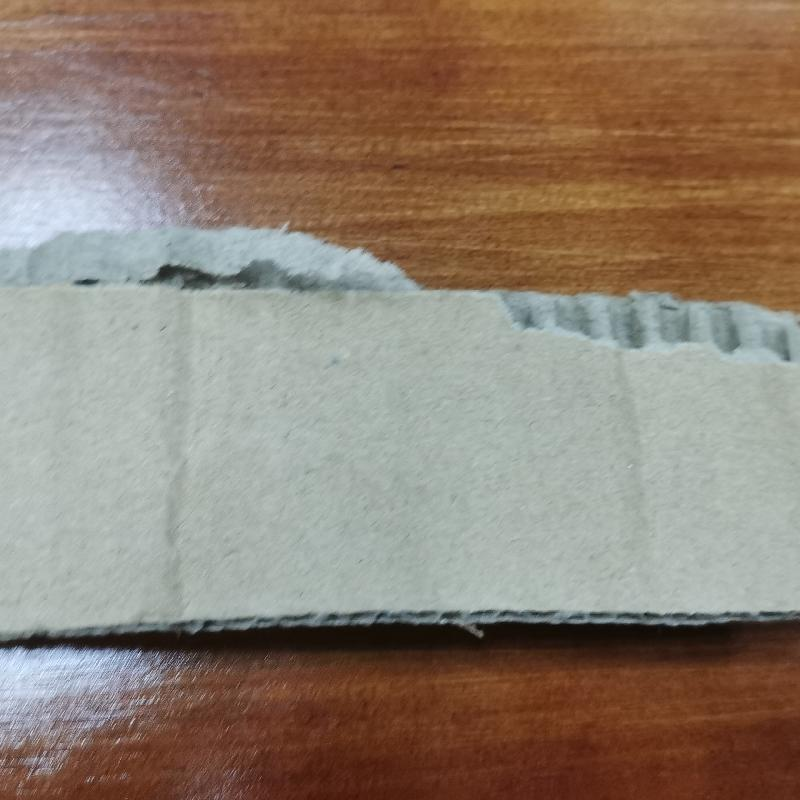boxes: (9, 234, 799, 654)
